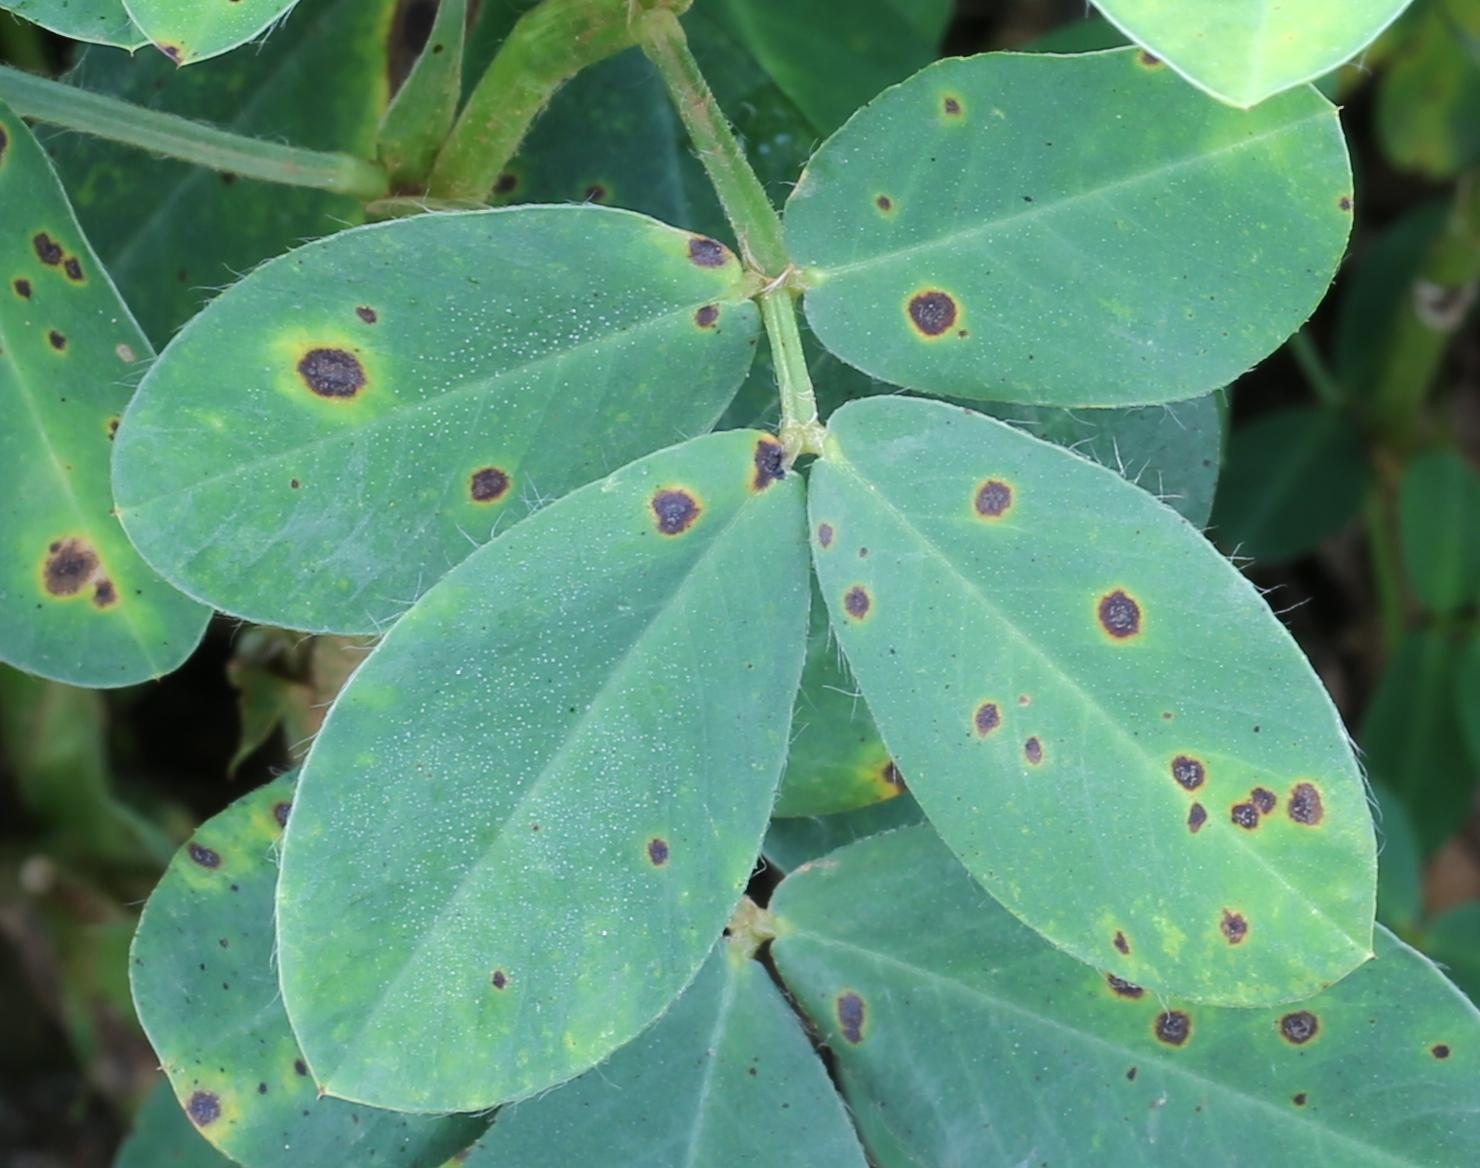black-spot: (925, 448, 1330, 920)
